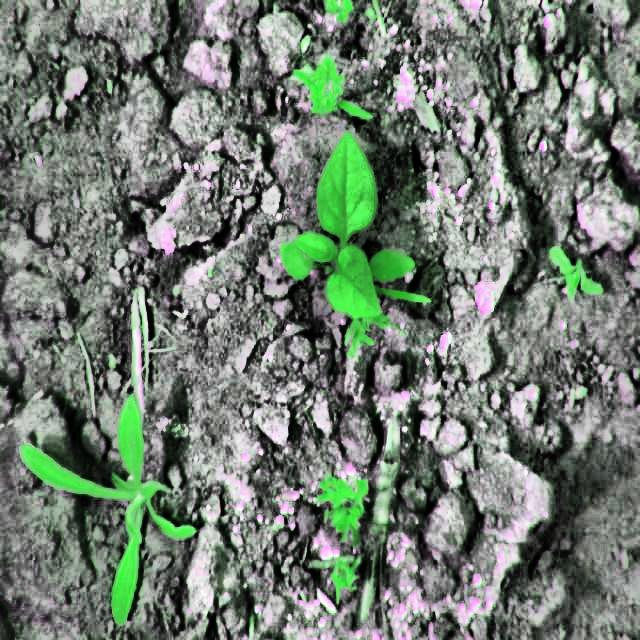Weeds: (20, 392, 198, 630), (278, 132, 418, 324)
undefined: (321, 476, 370, 602), (294, 56, 372, 120), (545, 240, 605, 302), (326, 0, 387, 31)
